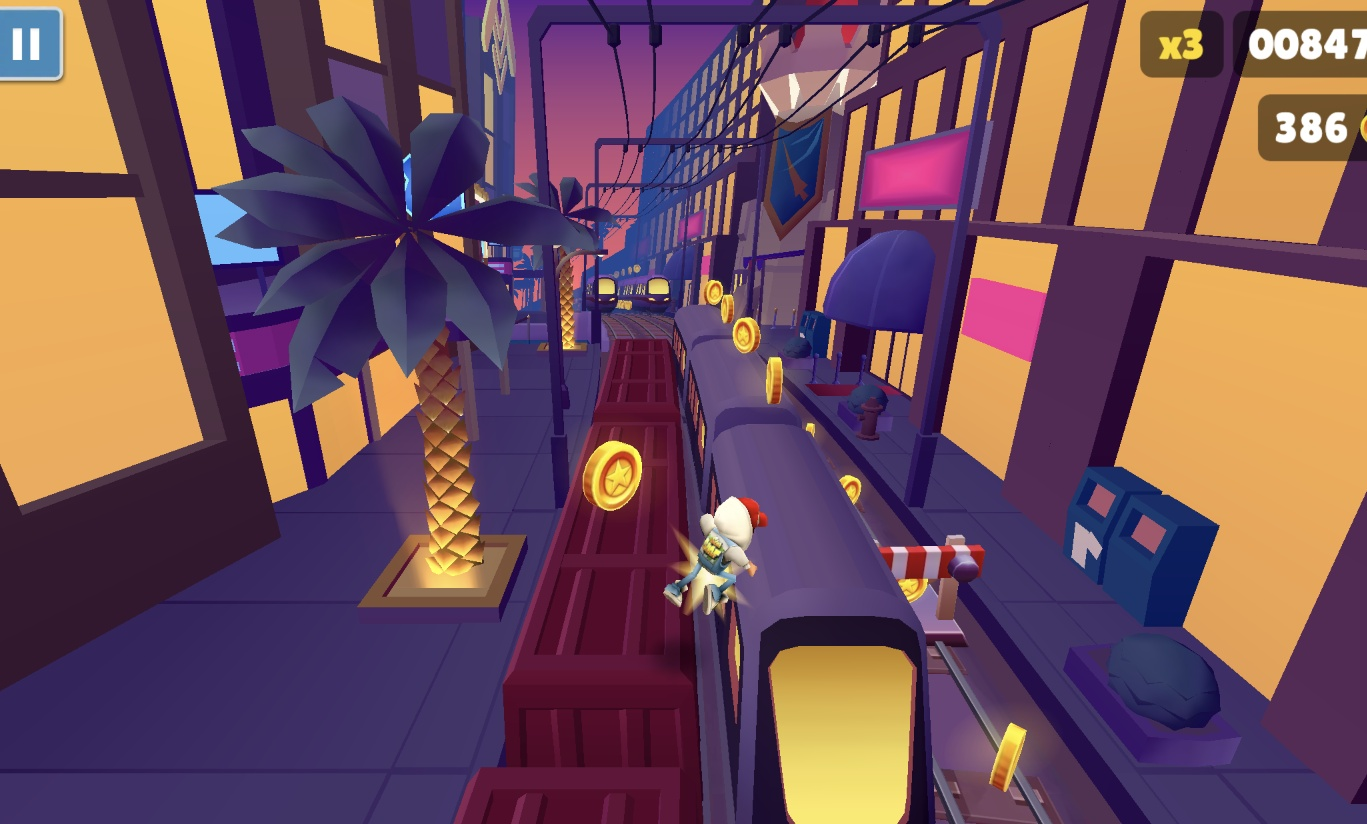ground_barrier: (878, 536, 986, 648)
train: (670, 306, 944, 824), (454, 338, 704, 824), (632, 276, 675, 317), (592, 276, 621, 316)
